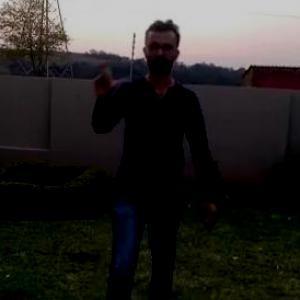land_hand: (91, 52, 131, 102)
